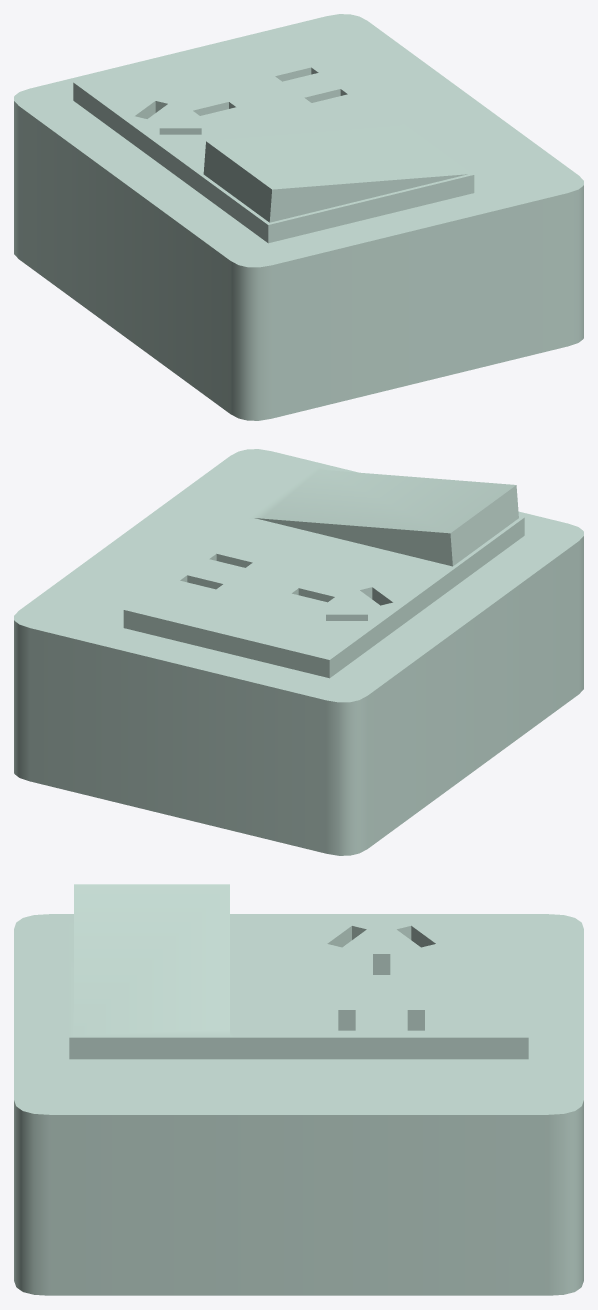
The model's file is chazuo.fbx.
3 renders of one model, top to bottom at view 1: azimuth 30°, elevation 25°; view 2: azimuth 150°, elevation 25°; view 3: azimuth 270°, elevation 25°, orthographic. The views are drawn at different scales.
Parts seen in each view (by area): view 1: Box035; view 2: Box035; view 3: Box035.
Part boxes in pixels (x1,y1,x2,y2): Box035: (14, 14, 583, 420); Box035: (14, 449, 583, 855); Box035: (14, 884, 583, 1295).
Size of the model in its own units: 10 by 5.6 by 12.
